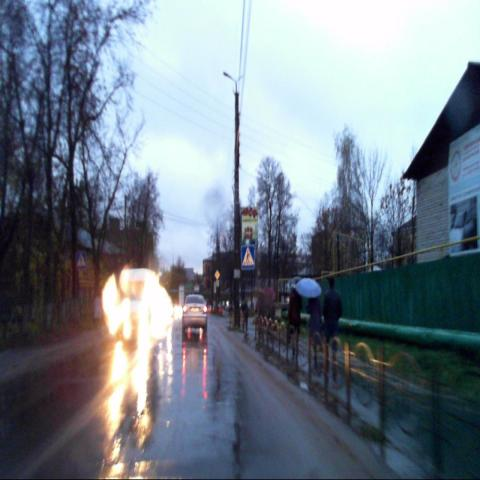5_19_1: (241, 245, 254, 269), (76, 252, 86, 268)
